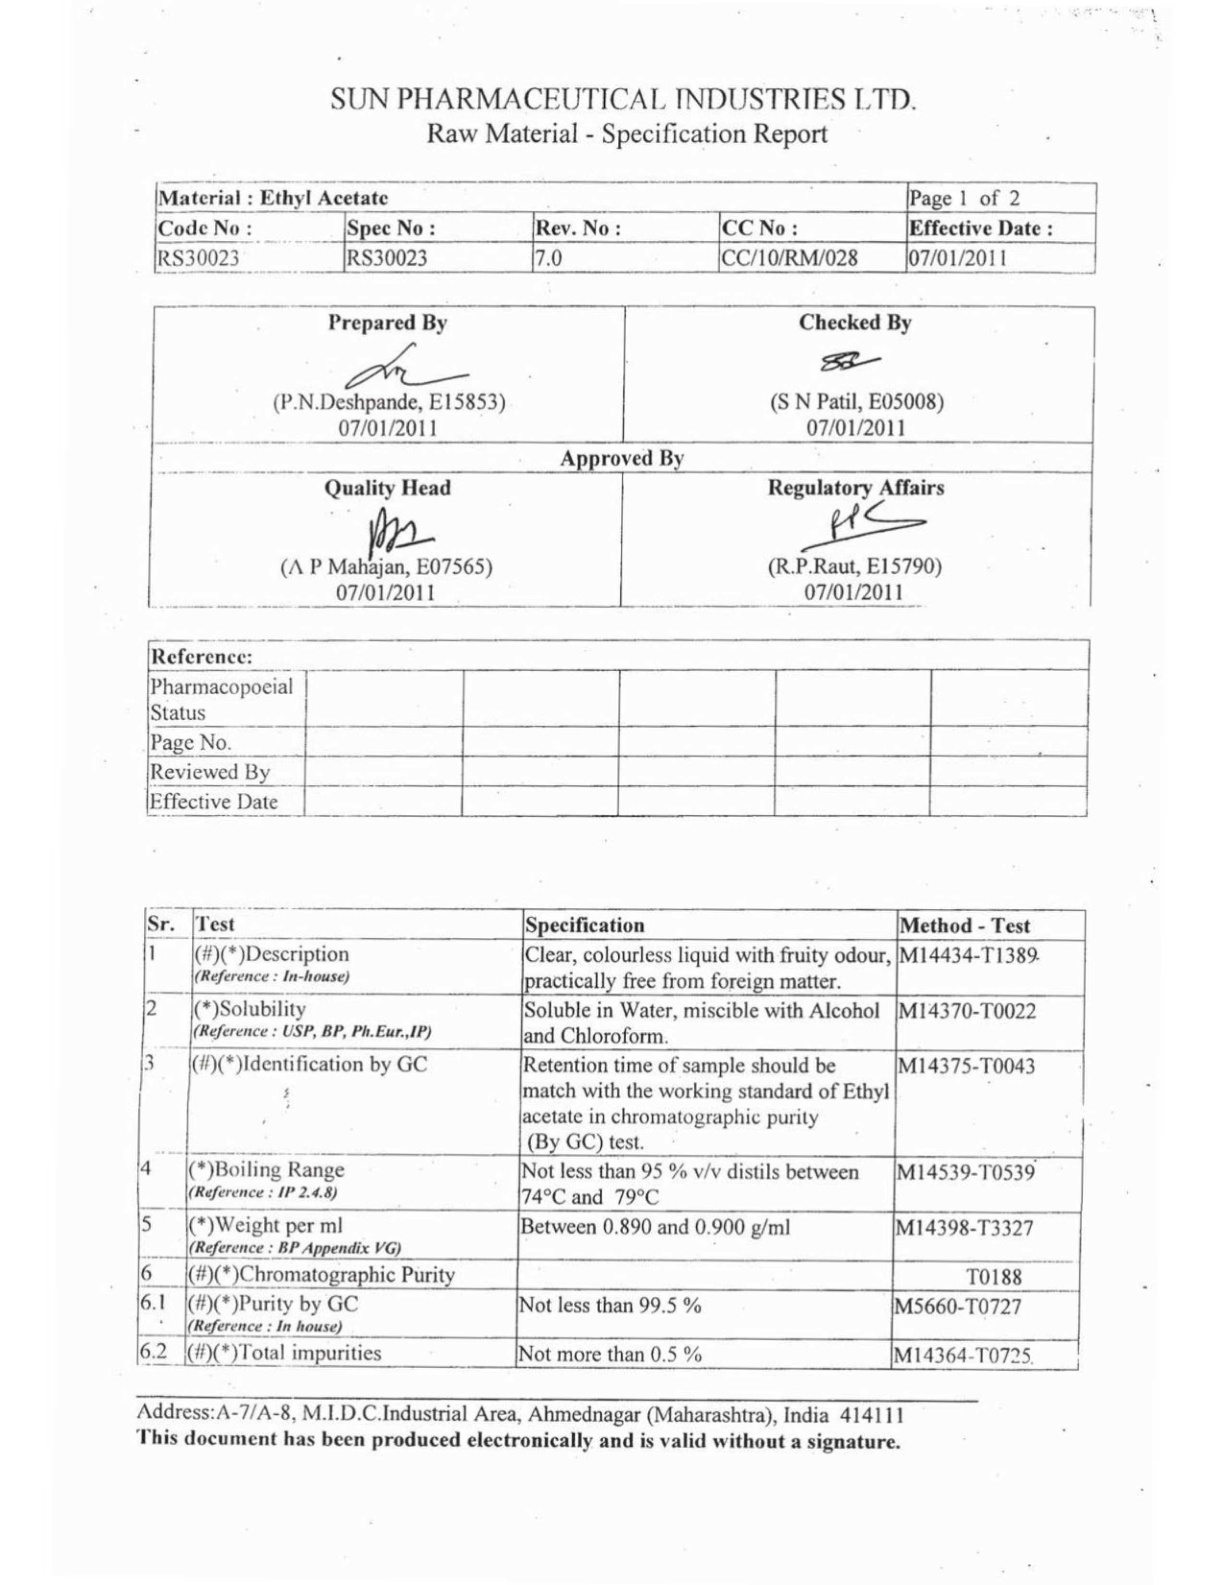full_lined: (135, 905, 1088, 1373)
merged_cells: (147, 303, 1097, 611), (147, 638, 1092, 819), (153, 177, 1098, 276)
